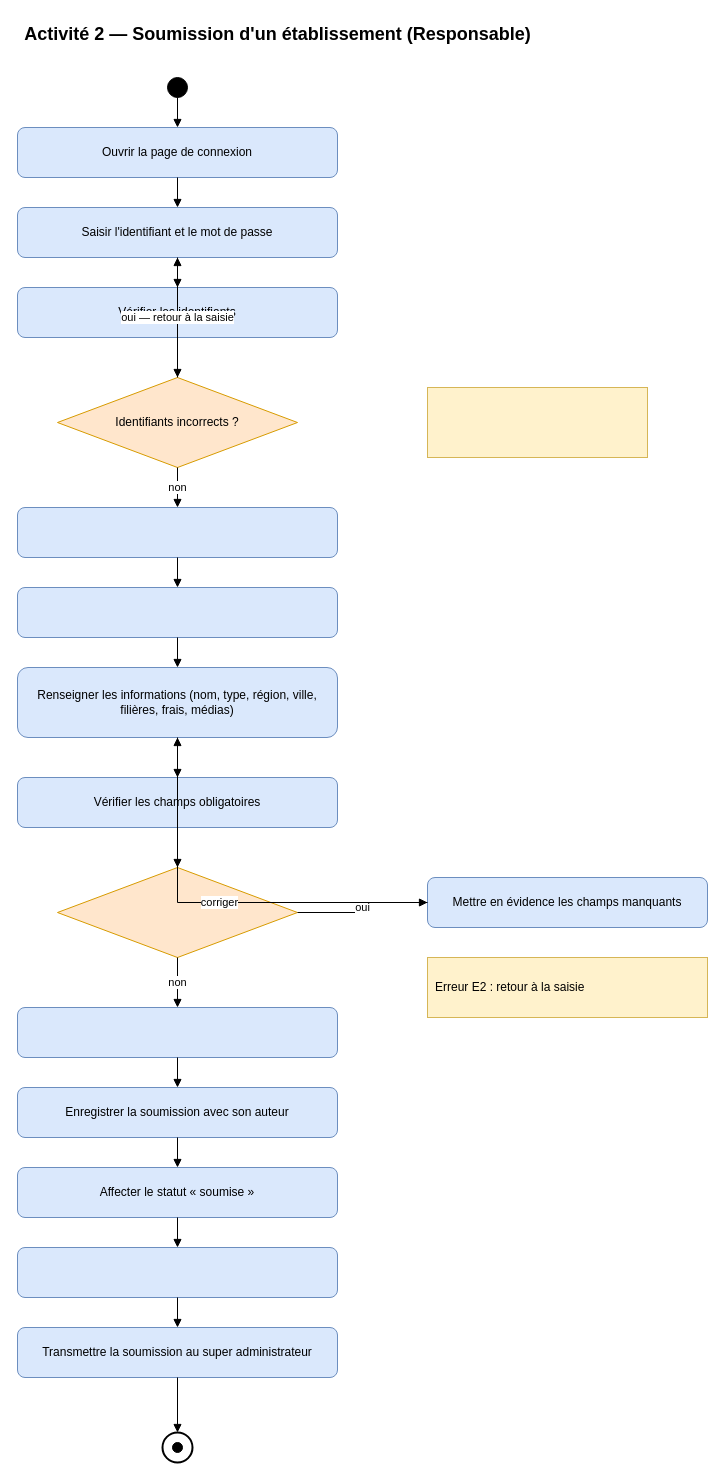
The diagram is 725 pixels wide and 1480 high, and some of its shapes have lost their labels. Each missing label, with the centre of its shape:
Accéder à l'espace responsable: the point at 177,532
Afficher la confirmation de soumission: the point at 177,1272
Champs incomplets ?: the point at 177,912
Envoyer la soumission: the point at 177,1032
Ouvrir le formulaire « Soumettre un établissement »: the point at 177,612
Si incorrects : retour à la saisie: the point at 537,422
